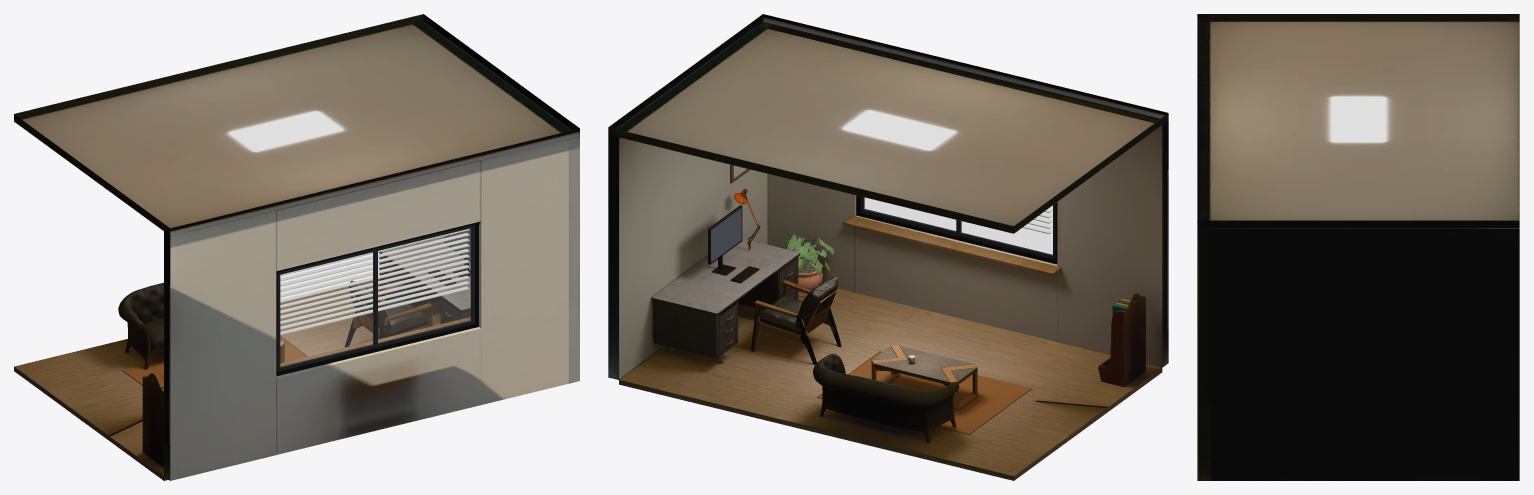
Rendered from world-of.glb.
3 renders of one model, left to right at view 1: azimuth 30°, elevation 25°; view 2: azimuth 150°, elevation 25°; view 3: azimuth 270°, elevation 25°, orthographic. The views are drawn at different scales.
Visible parts, largest first — view 1: BK_of_room, BK_of_props, SM_Live_Office_Sash_L_Glass, SM_Live_Office_Blinds, SM_Live_Office_Sash_R_Glass, SM_Live_Office_Sash_L, SM_Live_Office_Sash_R; view 2: BK_of_room, BK_of_props, SM_Live_Office_Sash_L_Glass, potted_plant_office, SM_Live_Office_Sash_R_Glass, SM_Screen_Office, SM_Live_Office_Sash_L, SM_Live_Office_Sash_R; view 3: BK_of_room.
Boxes of the visible parts, x1,y1,x2,y2 form: BK_of_room: (14,14,579,480); BK_of_props: (118,236,470,467); SM_Live_Office_Sash_L_Glass: (280,252,373,366); SM_Live_Office_Blinds: (280,229,469,335); SM_Live_Office_Sash_R_Glass: (378,228,470,342); SM_Live_Office_Sash_L: (277,249,376,371); SM_Live_Office_Sash_R: (376,224,474,347); BK_of_room: (608,14,1168,480); BK_of_props: (651,188,1145,443); SM_Live_Office_Sash_L_Glass: (961,206,1052,254); potted_plant_office: (786,234,834,295); SM_Live_Office_Sash_R_Glass: (864,198,955,231); SM_Screen_Office: (711,208,741,262); SM_Live_Office_Sash_L: (958,203,1055,259); SM_Live_Office_Sash_R: (860,196,958,235); BK_of_room: (1197,14,1519,480).
Bounding box in the file's own units: 5.6 × 3.36 × 3.7.
8 materials, 4 textured.
